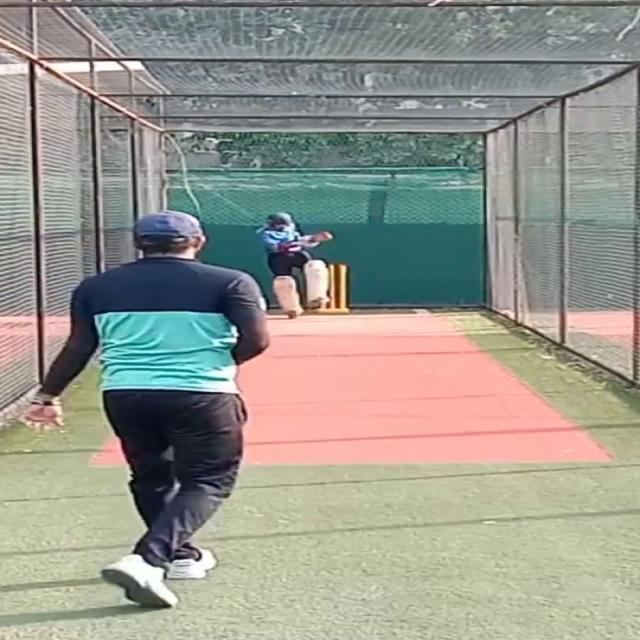stump: (324, 262, 350, 314)
